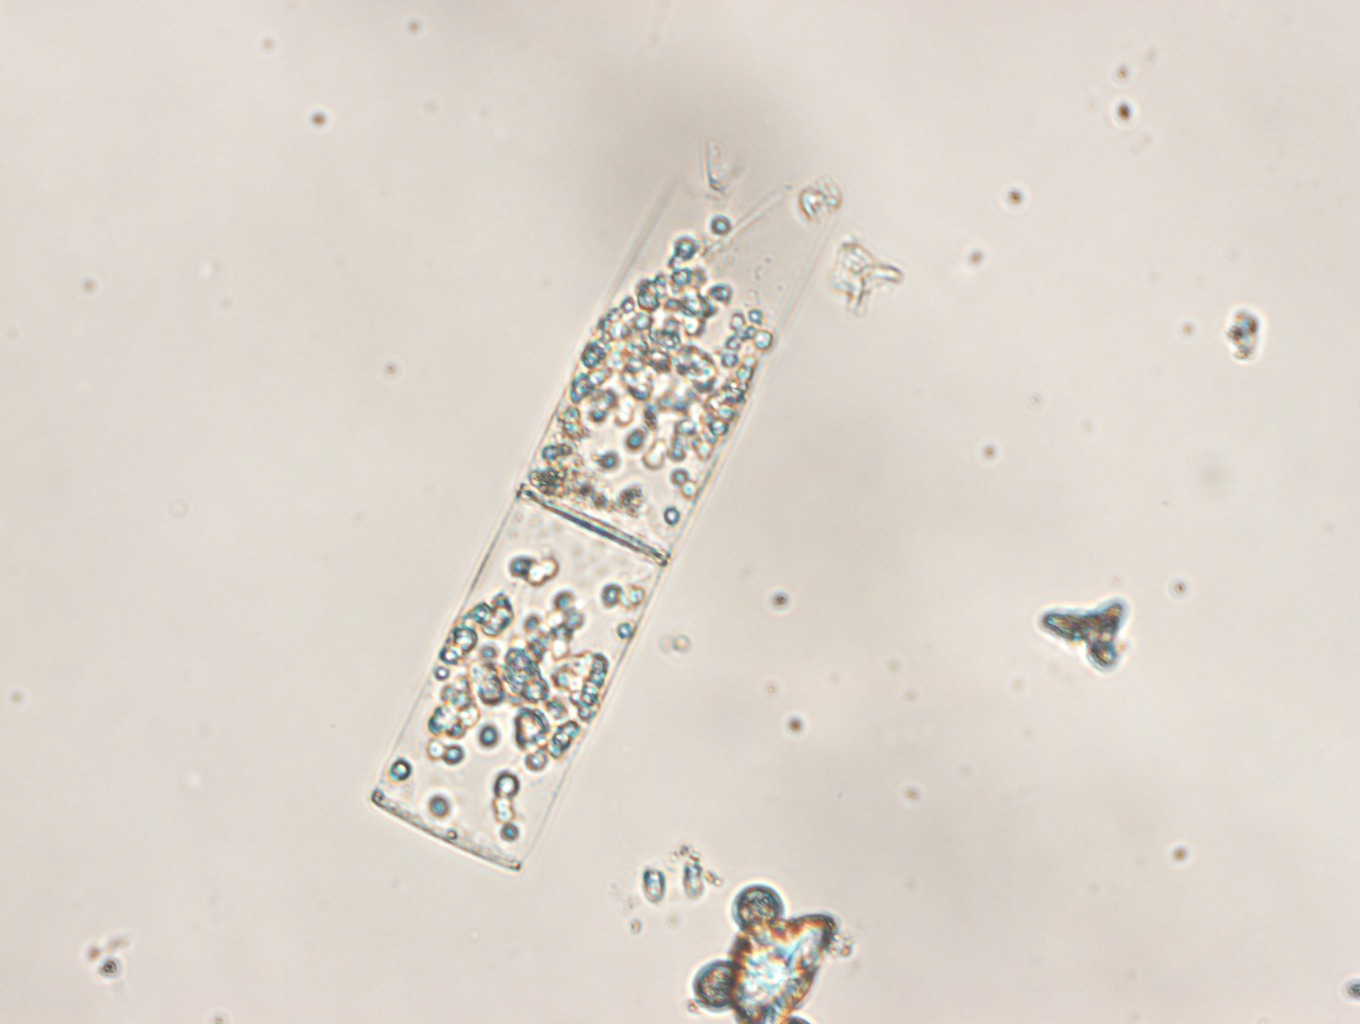guinardia flaccida: (367, 129, 839, 877)
